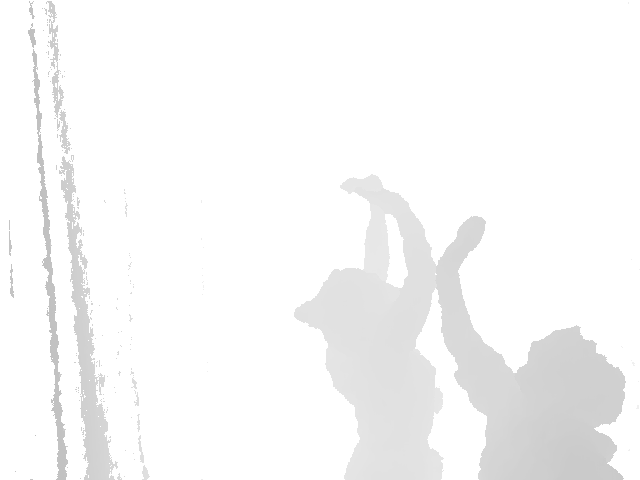hand: (337, 173, 404, 213), (437, 214, 494, 256)
head: (516, 326, 628, 427), (292, 265, 397, 342)
person: (434, 205, 633, 480), (292, 172, 447, 480)
